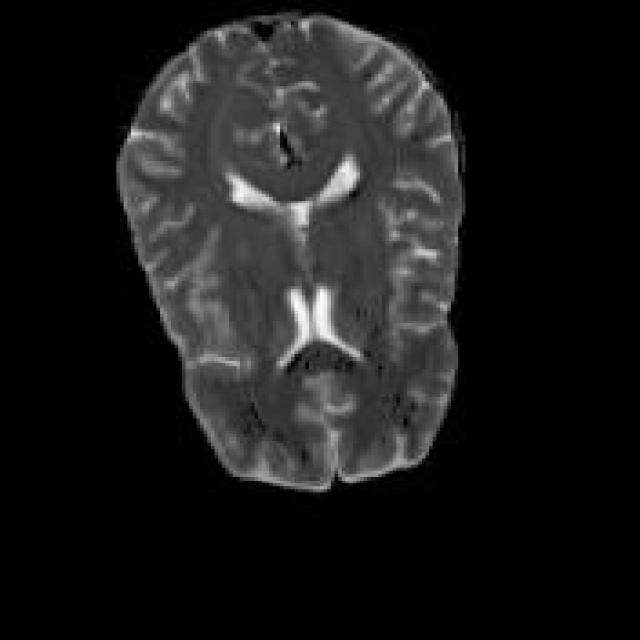CONTROL: (113, 10, 465, 492)
